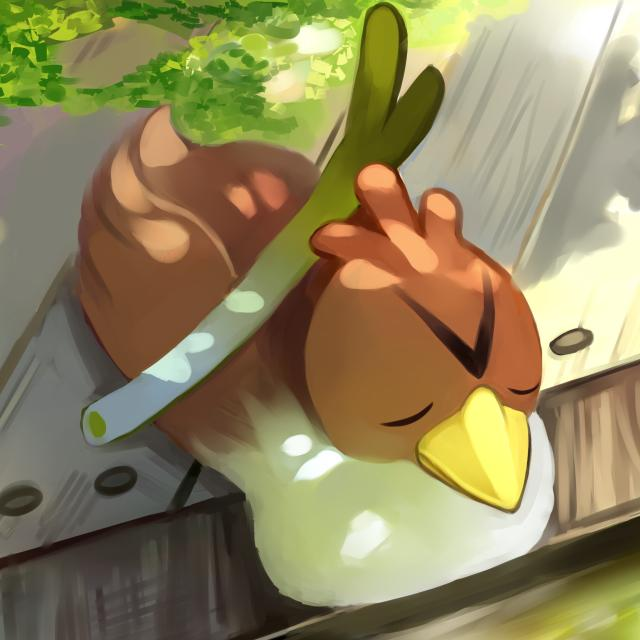Farfetchd: (76, 11, 572, 626)
